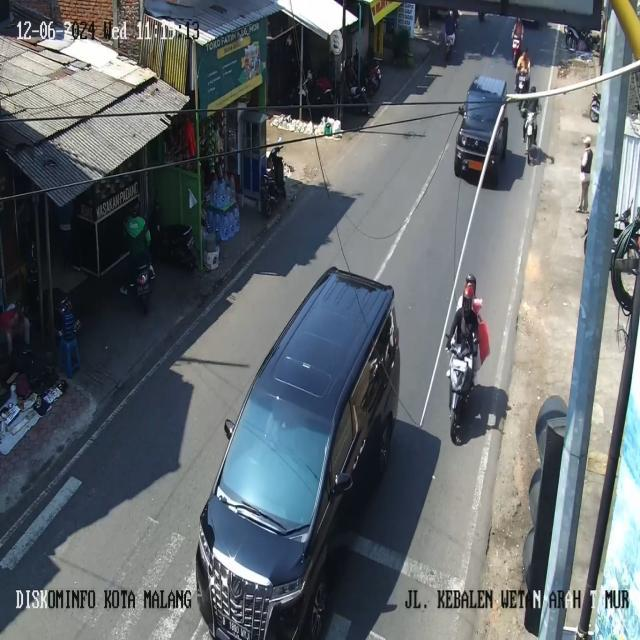Helmet: (462, 283, 475, 316), (465, 273, 476, 295), (463, 283, 474, 299), (530, 86, 537, 93), (449, 10, 453, 16)
Number Plate: (221, 616, 249, 639), (468, 160, 482, 170)
Rearview Mirror: (332, 473, 352, 495), (224, 419, 234, 438), (458, 105, 464, 115)
